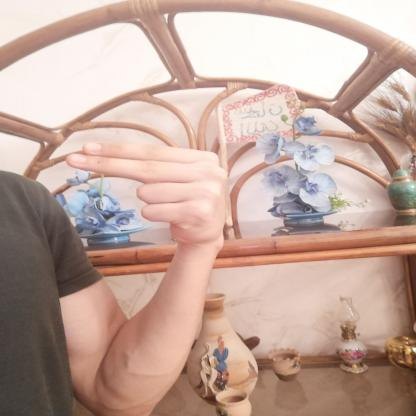AYN: (51, 130, 243, 251)
